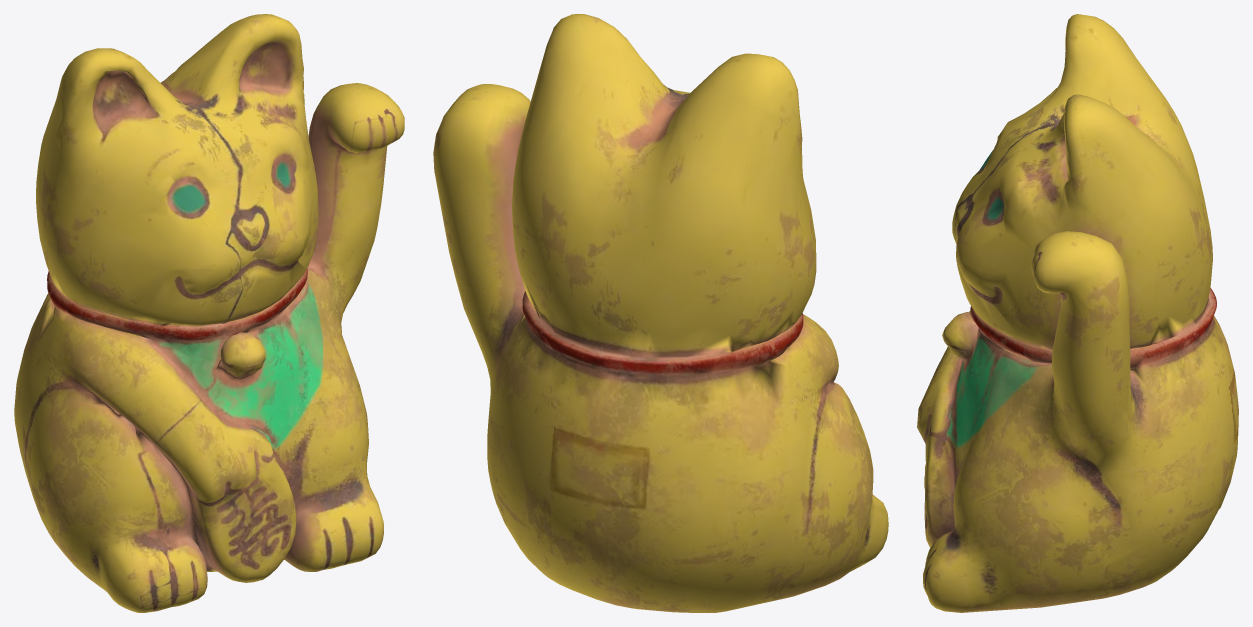
Rendered from lucky_cat_gold.glb.
The picture shows the model from 3 angles, left to right: view 1: azimuth 30°, elevation 25°; view 2: azimuth 150°, elevation 25°; view 3: azimuth 270°, elevation 25°; orthographic projection. The views are drawn at different scales.
Parts seen in each view (by area): view 1: defaultMaterial; view 2: defaultMaterial; view 3: defaultMaterial.
Part boxes in pixels (x1=…): defaultMaterial: x1=14, y1=14, x2=404, y2=612; defaultMaterial: x1=433, y1=14, x2=888, y2=612; defaultMaterial: x1=917, y1=14, x2=1238, y2=612.
Bounding box in the file's own units: 0.1803 × 0.24 × 0.1398.
1 material, 1 textured.
